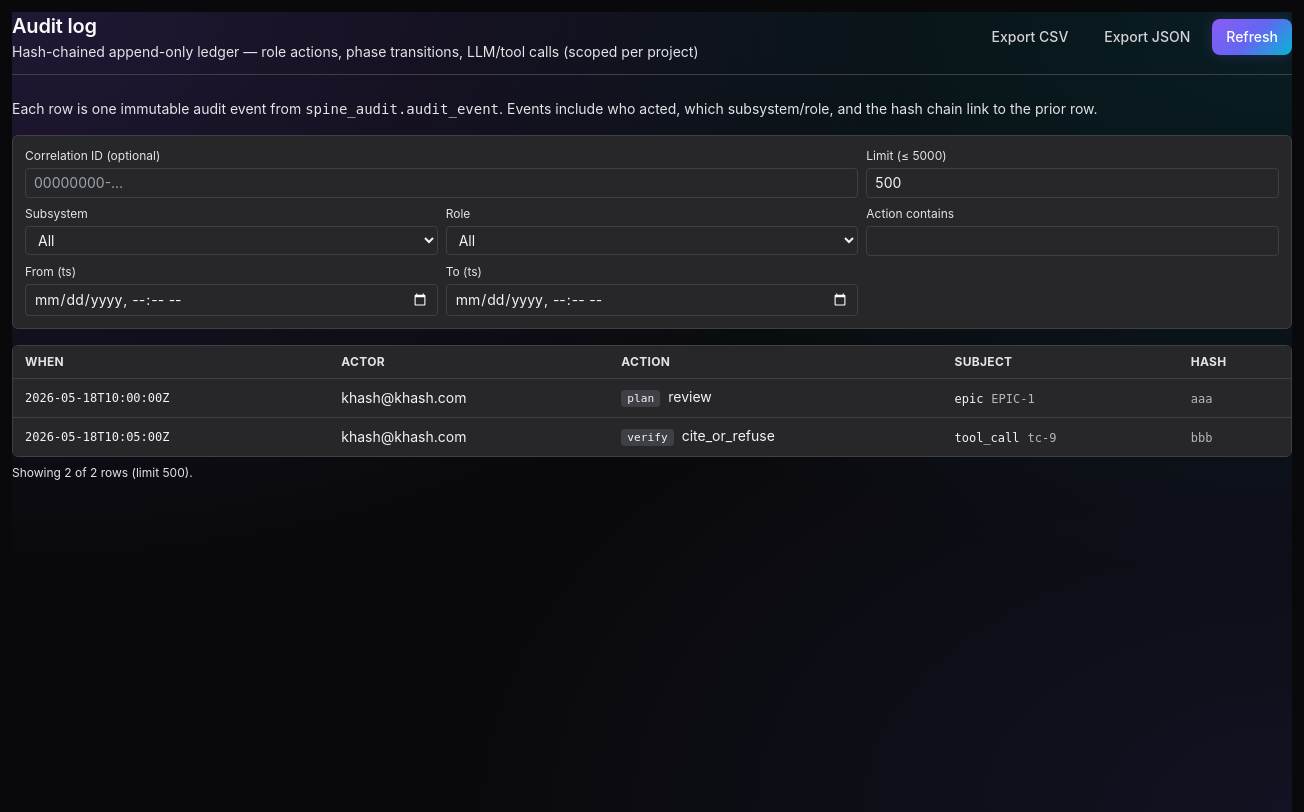
AuditPanel › applies client-side subsystem filter
The image size is (1304, 812).
Expected: the form with test id "filter-project" holds "proj-1", [12,135,1292,329]
Select "verify" in the dropdown with test id "filter-subsystem". click: (231, 240)
box: [25,226,438,255]
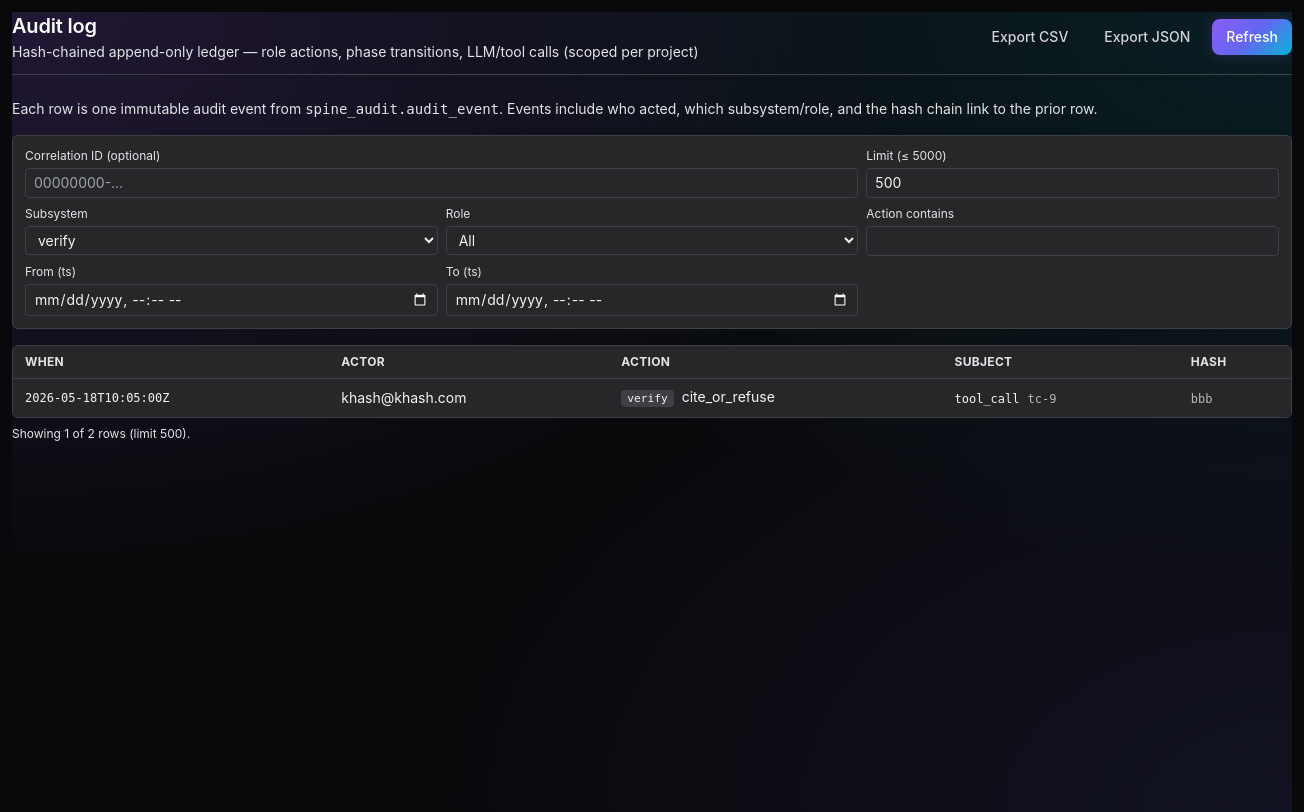
Now the number of rows with test id "audit-row" is 1, box [13,378,1291,417]
